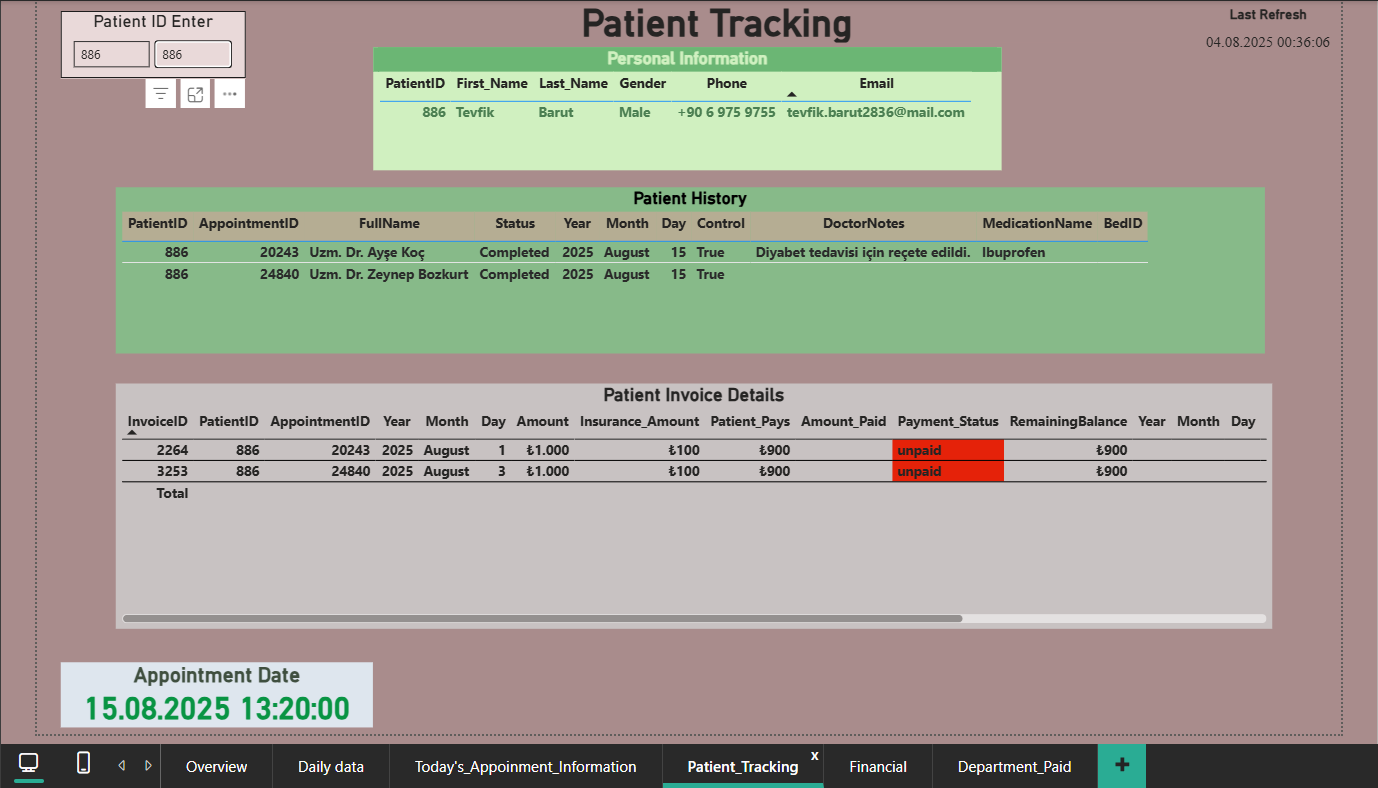

Layout of this report page (visuals, bound fields, positions):
{"tool":"powerbi","page":{"name":"Patient_Tracking","canvas":[1280,720],"ordinal":3},"visuals":[{"type":"tableEx","title":"Personal Information","fields":{"Values":["Patients.PatientID","Patients.First_Name","Patients.Last_Name","Patients.Gender","Patients.Phone","Patients.Email"]},"box":[330.4,45.2,616.9,120.6],"z":0},{"type":"tableEx","title":"Patient History","fields":{"Values":["PatientDetails.PatientID","Appointments.AppointmentID","Doctors.FullName","Appointments.Status","Appointments.AppointmentDate.Variation.Date Hierarchy.Year","Appointments.AppointmentDate.Variation.Date Hierarchy.Month","Appointments.AppointmentDate.Variation.Date Hierarchy.Day","Appointments.Control","PatientDetails.DoctorNotes","PatientDetails.MedicationName","Inpatients.BedID"]},"box":[77.3,182.8,1127.6,163.2],"z":1000},{"type":"slicer","title":"Patient ID Enter","fields":{"Values":["Patients.PatientID"]},"box":[23.3,9.8,181.6,66.3],"z":3000},{"type":"card","title":"Appointment Date","fields":{"Values":["Min(Appointments.AppointmentDate)"]},"box":[23.3,649.1,306.8,63.8],"z":4000},{"type":"card","title":"Last Refresh","fields":{"Values":["AppointmentSchedule.LastRefresh"]},"box":[1137.4,6.1,142.3,57.7],"z":5000},{"type":"textbox","title":"Patient Tracking","box":[244.2,0,846.6,40.5],"z":6000},{"type":"tableEx","title":"Patient Invoice Details","fields":{"Values":["vw_PatientInvoiceDetails.InvoiceID","vw_PatientInvoiceDetails.PatientID","vw_PatientInvoiceDetails.AppointmentID","vw_PatientInvoiceDetails.InvoiceDate.Variation.Date Hierarchy.Year","vw_PatientInvoiceDetails.InvoiceDate.Variation.Date Hierarchy.Month","vw_PatientInvoiceDetails.InvoiceDate.Variation.Date Hierarchy.Day","vw_PatientInvoiceDetails.Amount","vw_PatientInvoiceDetails.Insurance_Amount","vw_PatientInvoiceDetails.Patient_Pays","vw_PatientInvoiceDetails.Amount_Paid","vw_PatientInvoiceDetails.Payment_Status","vw_PatientInvoiceDetails.RemainingBalance"]},"box":[77.3,375.5,1135,240.5],"z":6001}]}

Visuals, with their boxes on the page's 1280x720 design canvas (x1, y1, x2, y2). These are canvas units, not pixel positions in the 1378x788 screenshot, which may show the page scaled, cropped or inside an application window:
"Personal Information" tableEx: select_region(330, 45, 947, 166)
"Patient History" tableEx: select_region(77, 183, 1205, 346)
"Patient ID Enter" slicer: select_region(23, 10, 205, 76)
"Appointment Date" card: select_region(23, 649, 330, 713)
"Last Refresh" card: select_region(1137, 6, 1280, 64)
"Patient Tracking" textbox: select_region(244, 0, 1091, 40)
"Patient Invoice Details" tableEx: select_region(77, 376, 1212, 616)
